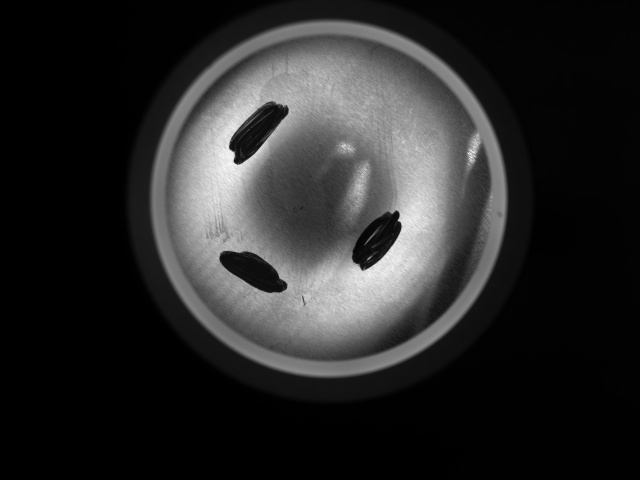zang_wu: (226, 98, 292, 170), (348, 206, 405, 273), (217, 249, 291, 295)
